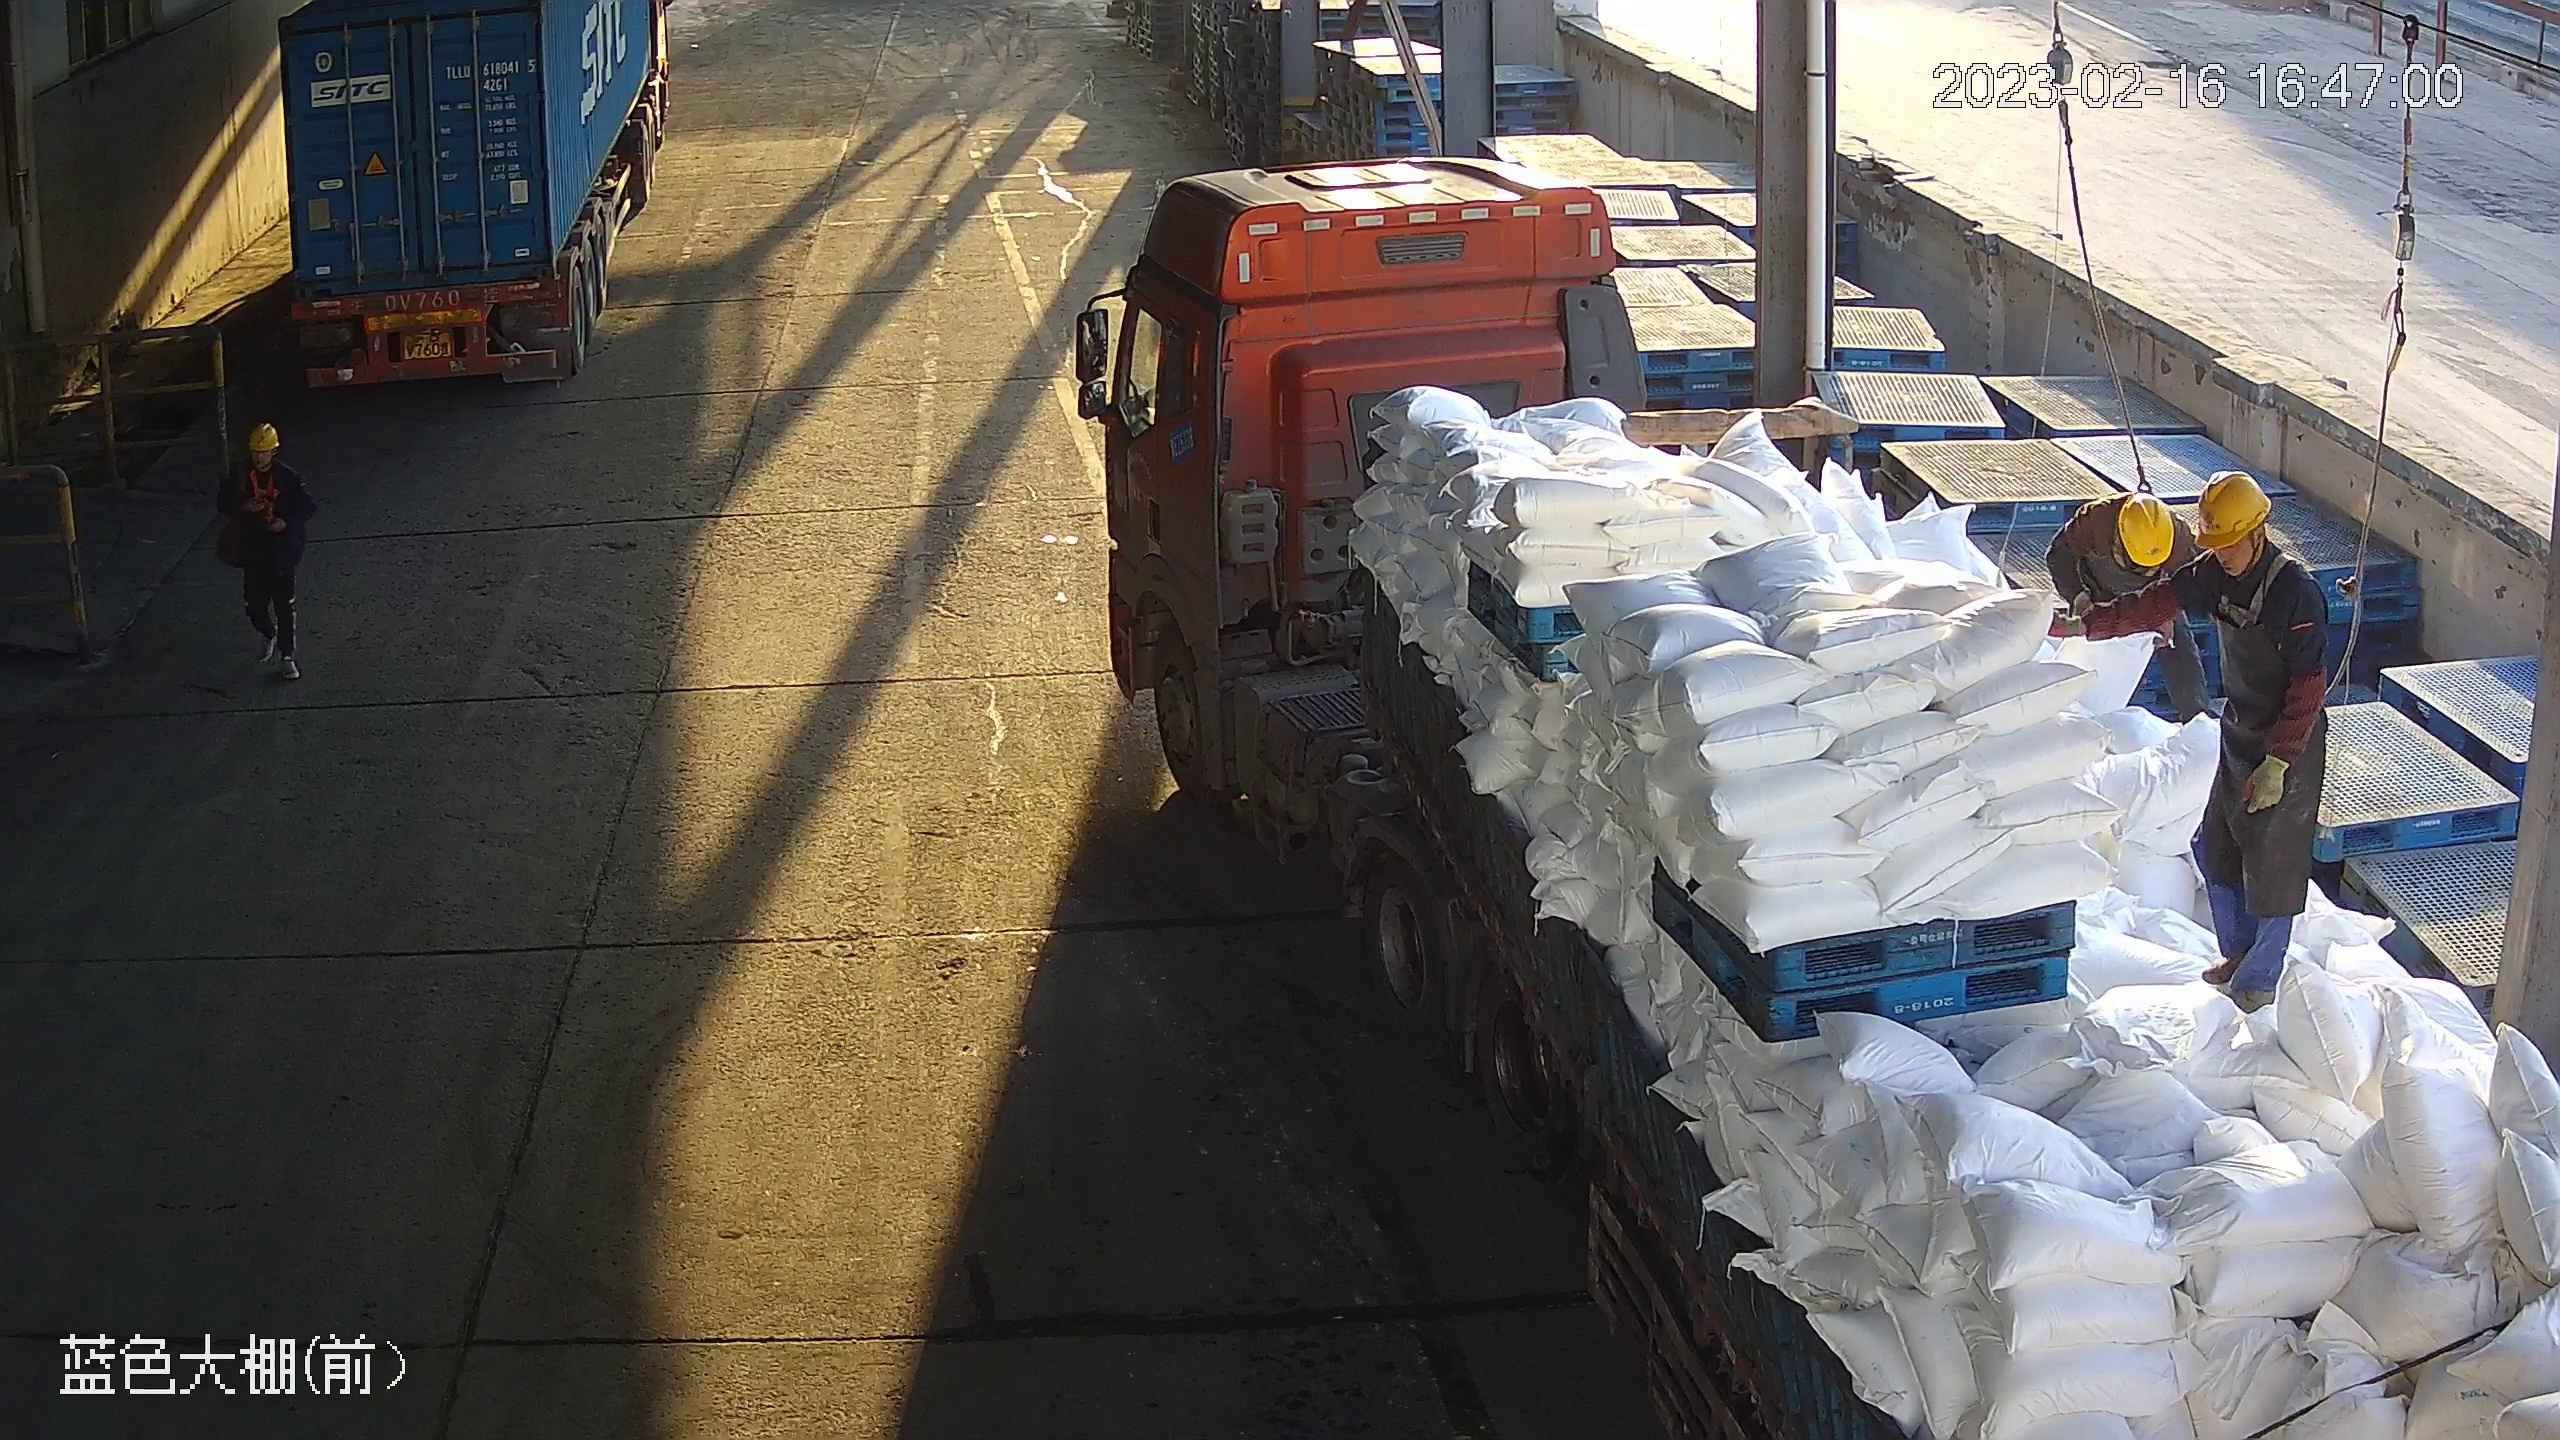belt: (2212, 562, 2308, 640), (2101, 530, 2167, 583)
head: (2166, 471, 2332, 666), (2045, 491, 2200, 622), (212, 420, 306, 511)
helmet: (2198, 469, 2276, 554), (2117, 493, 2174, 566), (244, 420, 284, 452)
people: (2056, 466, 2335, 1022), (215, 418, 312, 688)
truck: (1069, 154, 2560, 1440), (274, 1, 674, 396)
